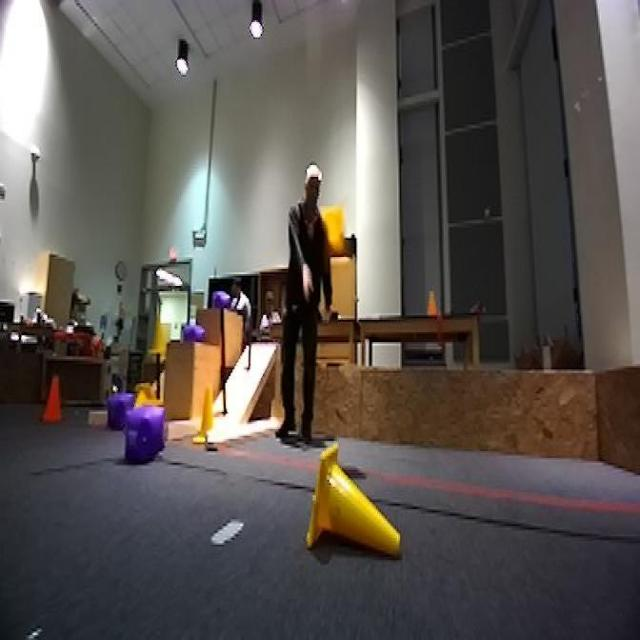frc_cone: (306, 442, 404, 552), (314, 210, 348, 268), (147, 308, 173, 363), (193, 384, 217, 442), (132, 378, 164, 408)
frc_cube: (125, 404, 163, 462), (102, 390, 136, 430), (178, 318, 209, 342), (210, 291, 232, 312)
